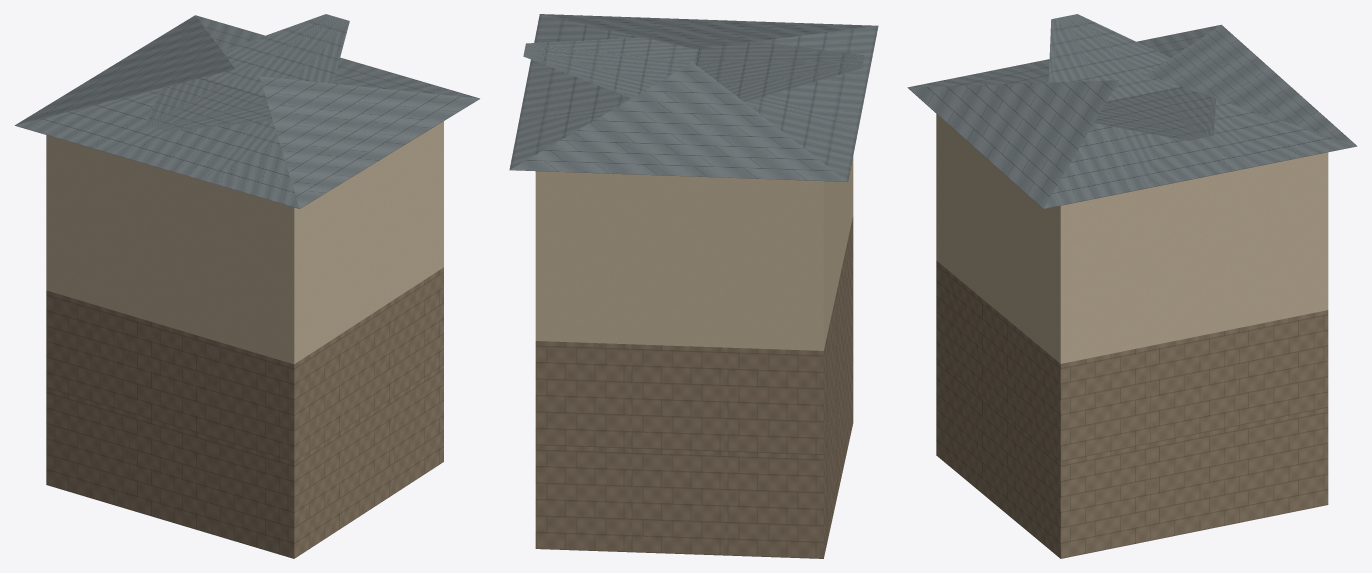
File: bld_c19_31_370.gltf
3 renders of one model, left to right at view 1: azimuth 30°, elevation 25°; view 2: azimuth 150°, elevation 25°; view 3: azimuth 270°, elevation 25°, orthographic. The views are drawn at different scales.
Parts seen in each view (by area): view 1: bld_c19_31_370; view 2: bld_c19_31_370; view 3: bld_c19_31_370.
Boxes of the visible parts, x1,y1,x2,y2 form: bld_c19_31_370: (15,14,479,558); bld_c19_31_370: (509,14,878,558); bld_c19_31_370: (907,14,1357,558).
Size of the model in its own units: 10.02 by 10.2 by 10.34.
3 materials, 3 textured.
